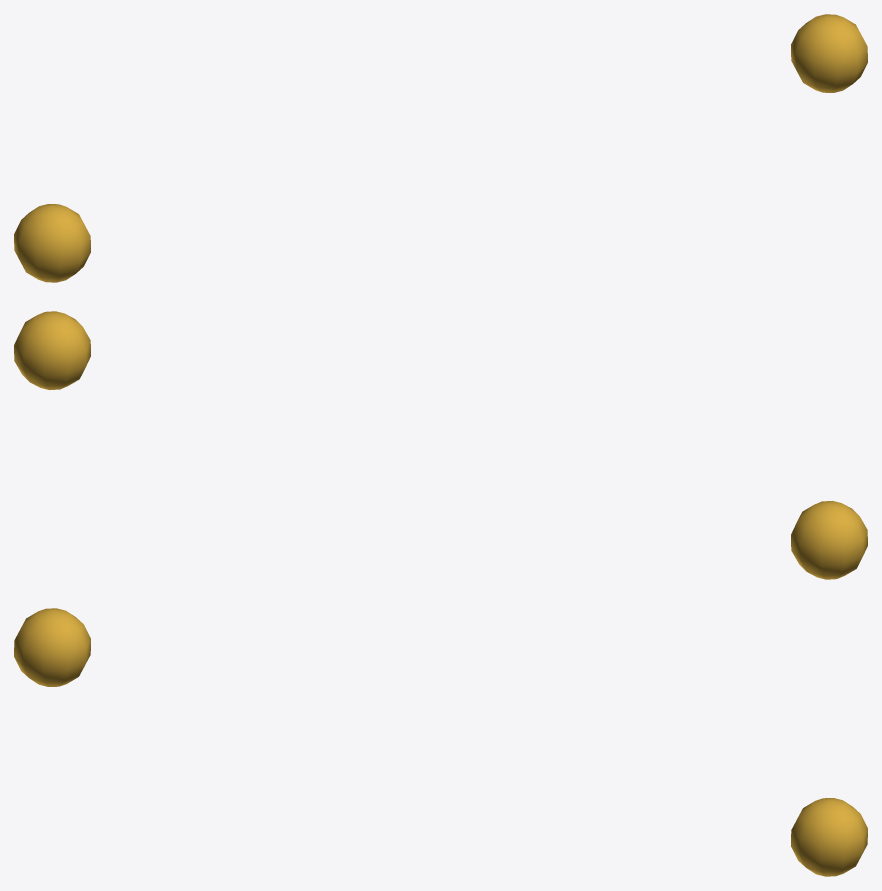
File: earrings_m.glb
3 renders of one model, top to bottom at view 1: azimuth 30°, elevation 25°; view 2: azimuth 150°, elevation 25°; view 3: azimuth 330°, elevation 25°, orthographic.
Visible parts, largest first — view 1: earrings_m; view 2: earrings_m; view 3: earrings_m.
Part boxes in pixels (<box>): earrings_m: <box>14,14,867,282</box>; earrings_m: <box>14,311,867,579</box>; earrings_m: <box>14,608,867,876</box>.
Size of the model in its own units: 0.1969 by 0.016 by 0.0149.
